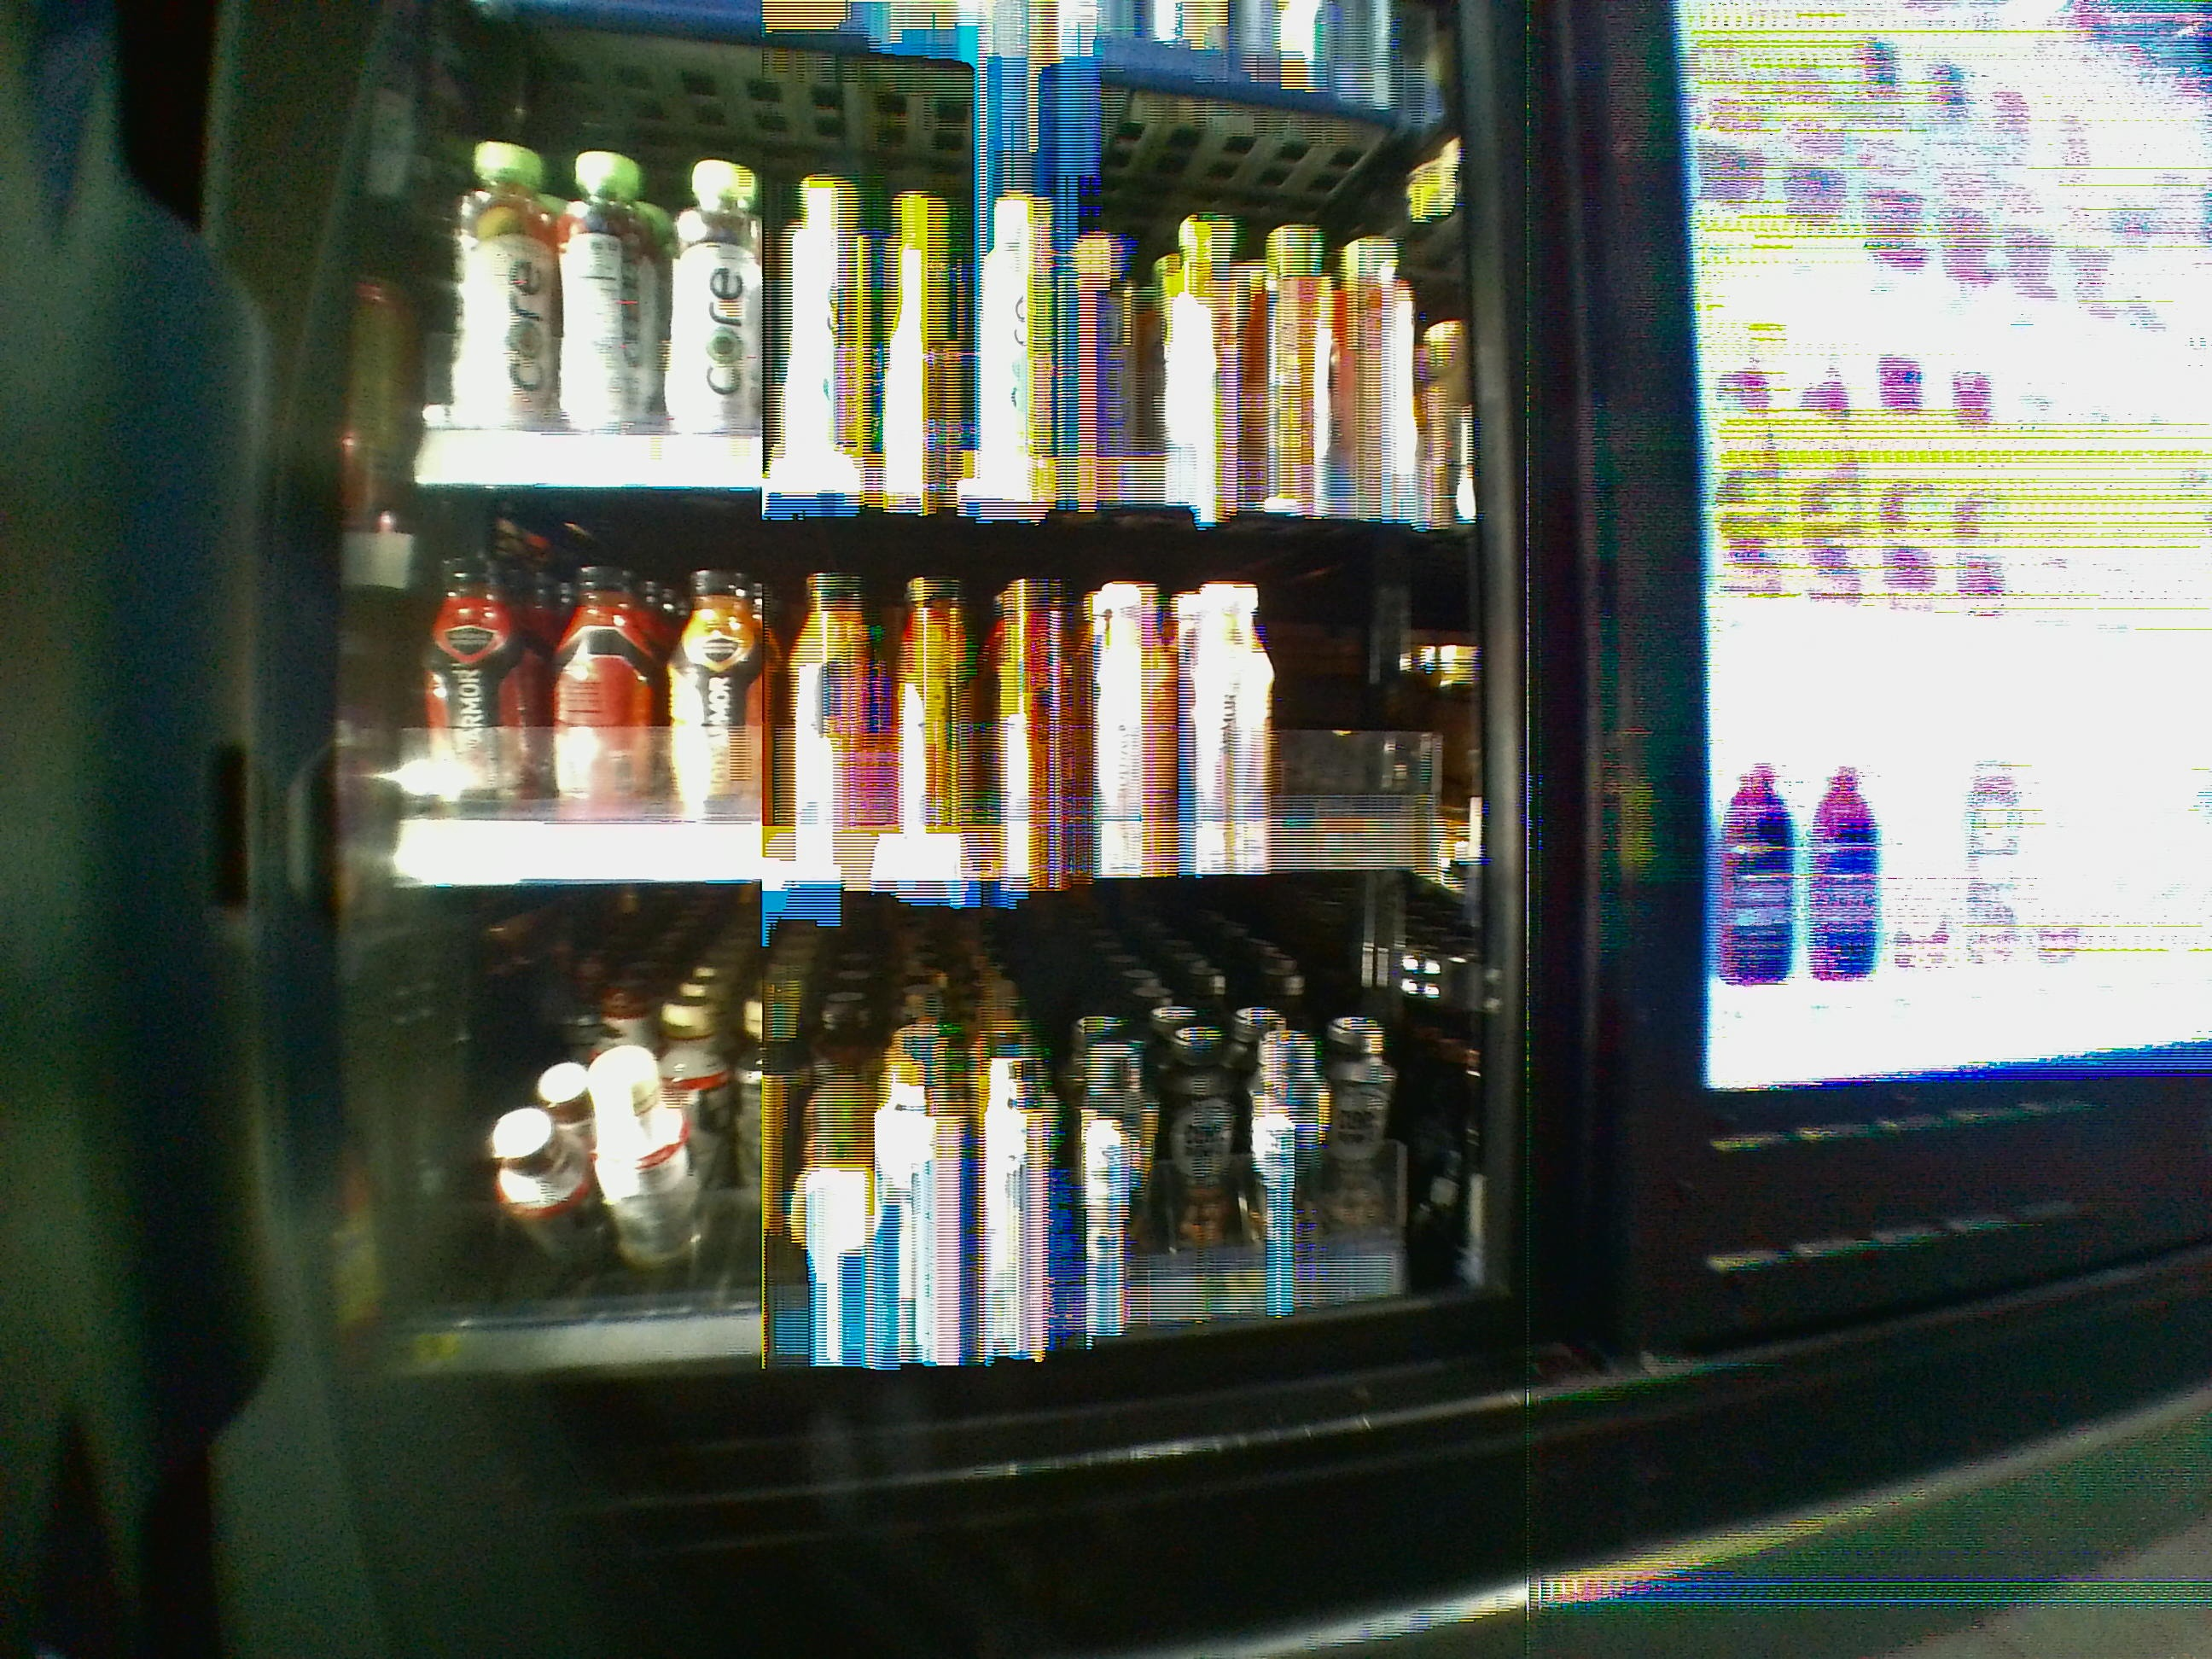shelf: (317, 483, 1510, 877)
